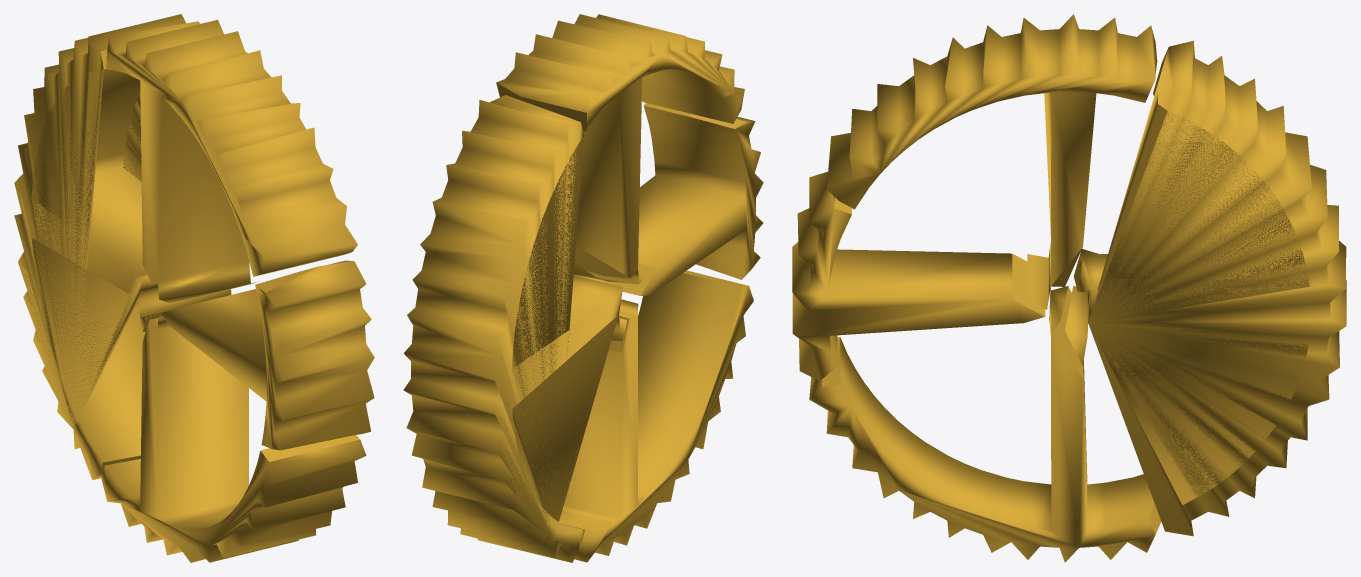
File: broken_Gear.fbx
3 views of the same model, side by side, from view 1: azimuth 30°, elevation 25°; view 2: azimuth 150°, elevation 25°; view 3: azimuth 270°, elevation 25° (orthographic). The views are drawn at different scales.
Parts seen in each view (by area): view 1: GearBig_cell, GearBig_cell.001, GearBig_cell.002, GearBig_cell.003; view 2: GearBig_cell, GearBig_cell.002, GearBig_cell.001, GearBig_cell.003; view 3: GearBig_cell, GearBig_cell.001, GearBig_cell.002, GearBig_cell.003.
Boxes of the visible parts, <box> form: GearBig_cell: <box>14,14,231,480</box>; GearBig_cell.001: <box>106,19,357,302</box>; GearBig_cell.002: <box>101,316,366,562</box>; GearBig_cell.003: <box>161,260,374,450</box>; GearBig_cell: <box>403,95,626,562</box>; GearBig_cell.002: <box>559,270,753,562</box>; GearBig_cell.001: <box>496,14,744,284</box>; GearBig_cell.003: <box>608,103,763,295</box>; GearBig_cell: <box>1065,40,1346,536</box>; GearBig_cell.001: <box>826,14,1157,309</box>; GearBig_cell.002: <box>809,286,1161,562</box>; GearBig_cell.003: <box>792,171,1045,380</box>.
Bounding box in the file's own units: 3.87 × 19.85 × 19.81.
